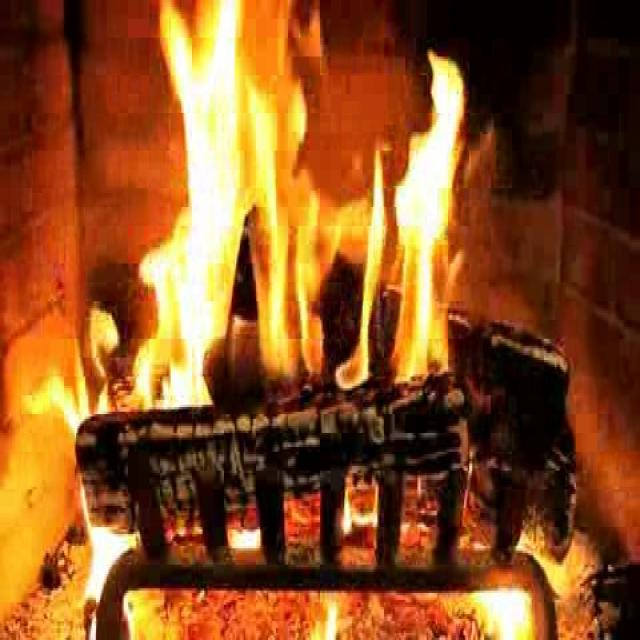fire: (146, 5, 466, 421)
